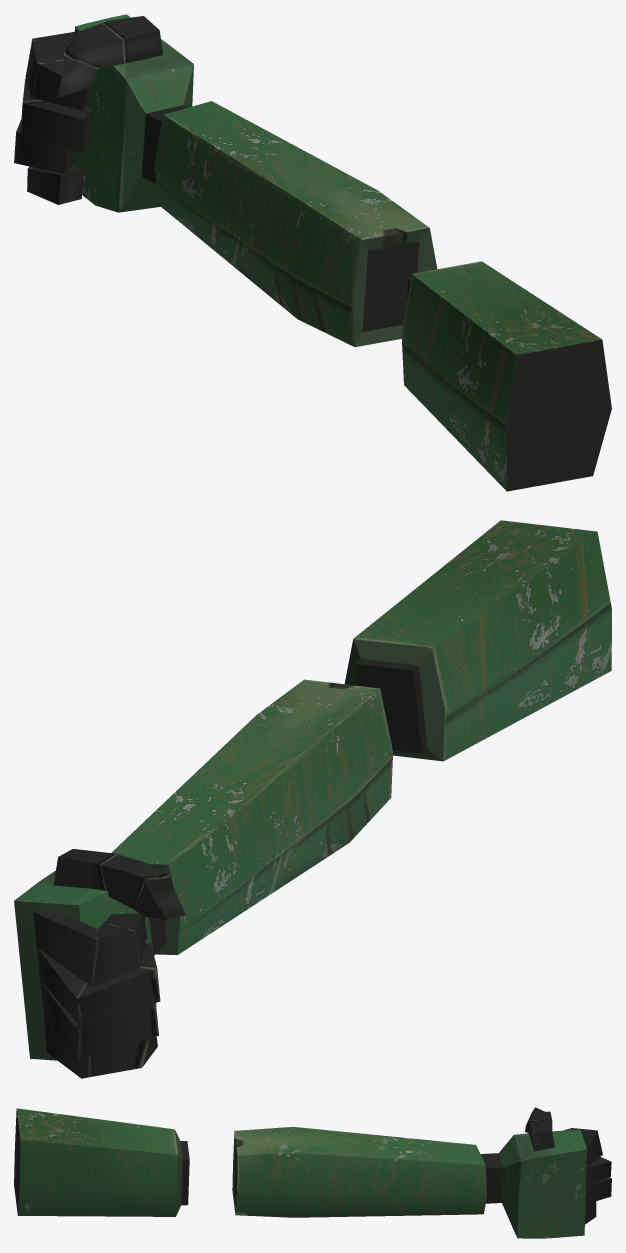
The model's file is Seperated_JUST_arm_fist.fbx.
3 views of the same model, one above another, from view 1: azimuth 30°, elevation 25°; view 2: azimuth 150°, elevation 25°; view 3: azimuth 270°, elevation 25° (orthographic). The views are drawn at different scales.
Parts seen in each view (by area): view 1: Arm8; view 2: Arm8; view 3: Arm8.
Boxes of the visible parts, x1,y1,x2,y2 form: Arm8: (14,14,611,491); Arm8: (14,520,611,1078); Arm8: (14,1107,611,1238).
Bounding box in the file's own units: 0.1063 × 0.1194 × 0.6057.
Materials: 1 (1 with a texture image).
